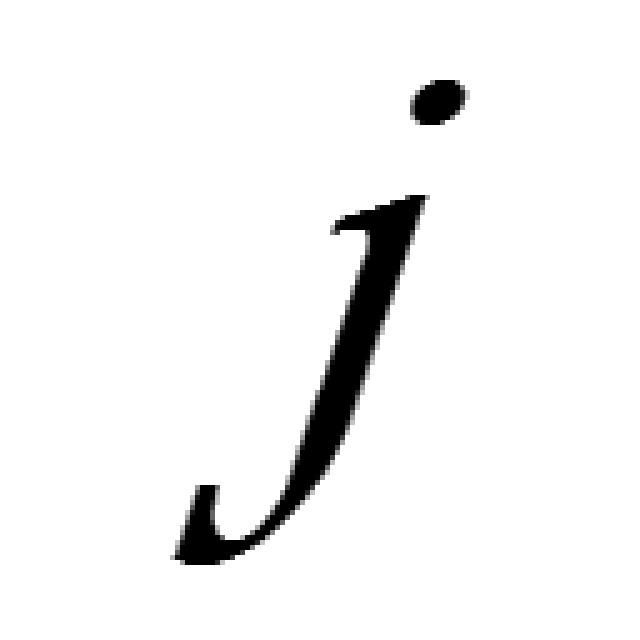J: (165, 68, 467, 570)
